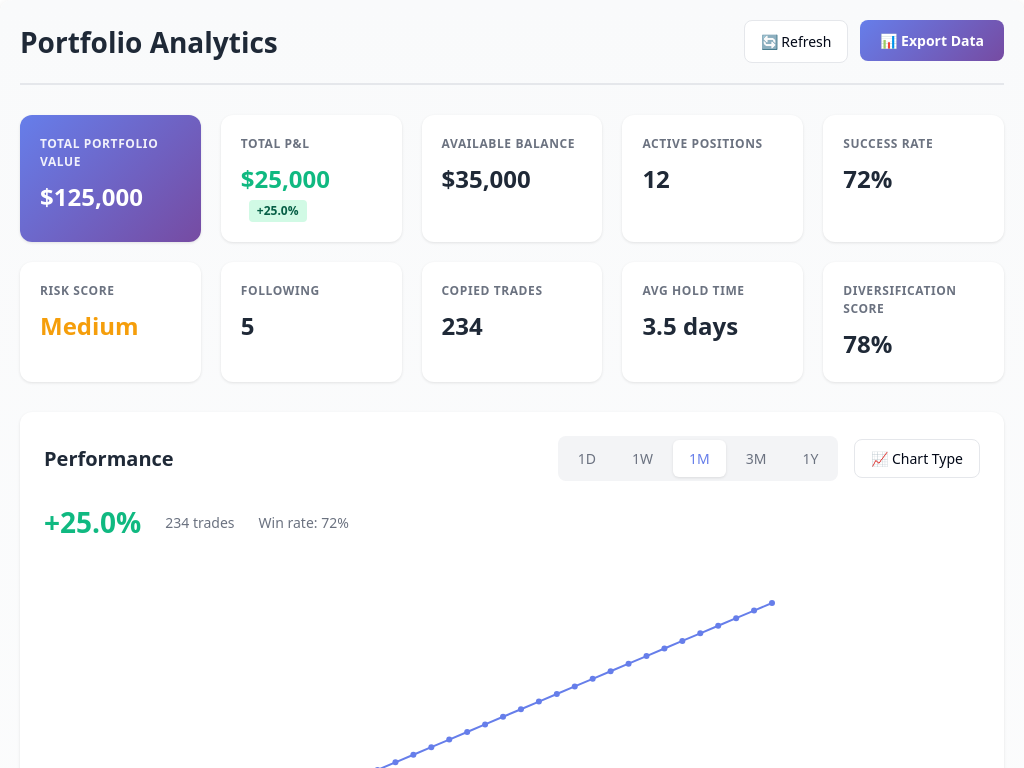
PortfolioAnalytics › Error Handling › should handle export errors
Click the button "📊 Export Data". click: (932, 40)
box: [860, 20, 1004, 61]
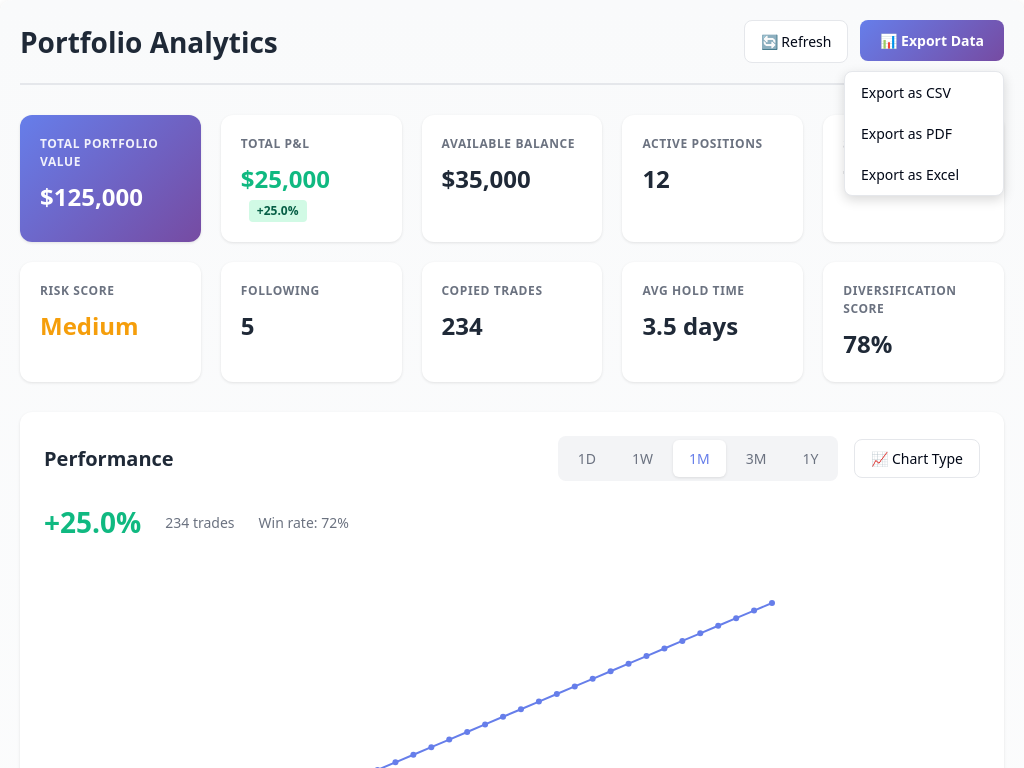
Click the button "Export as CSV". click: (924, 92)
box: [845, 72, 1003, 113]
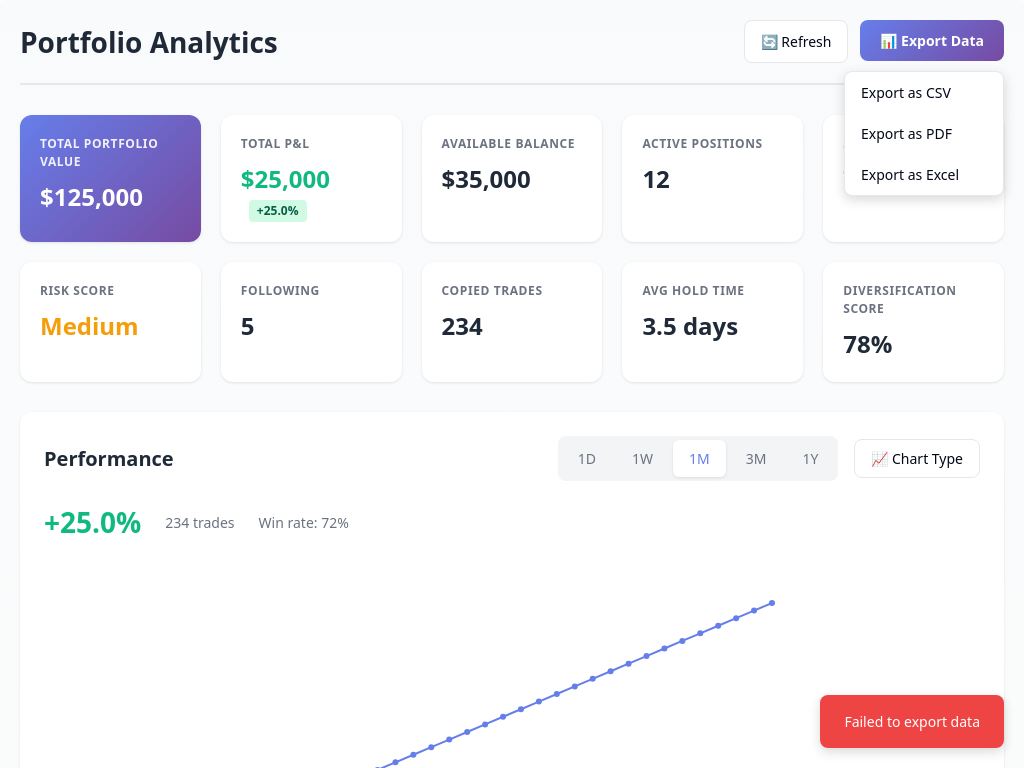
expect the text "Failed to export data" is shown: met, box [820, 695, 1004, 748]
